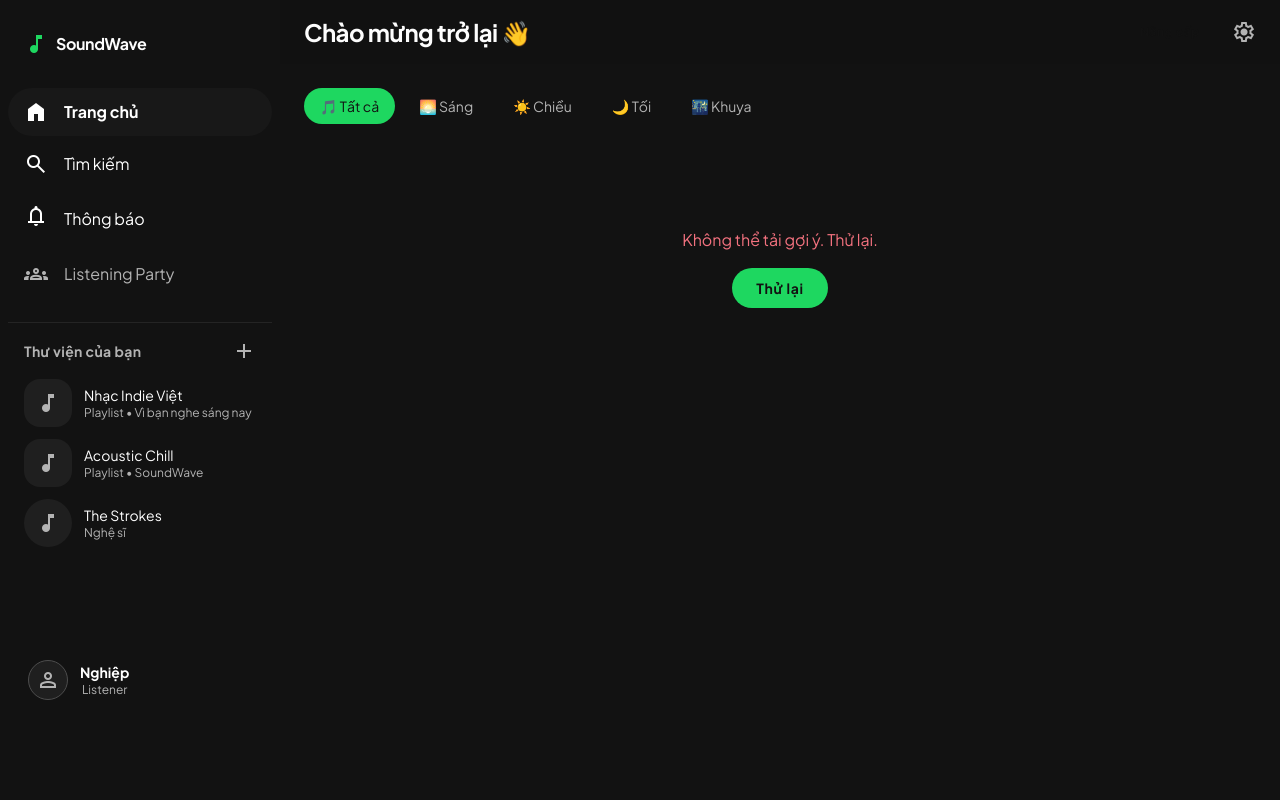
it: HomePage — error state › retry button re-fetches recommendations
Step 1. Click the button "Thử lại" → x=780, y=288, box 732,268 -> 828,308
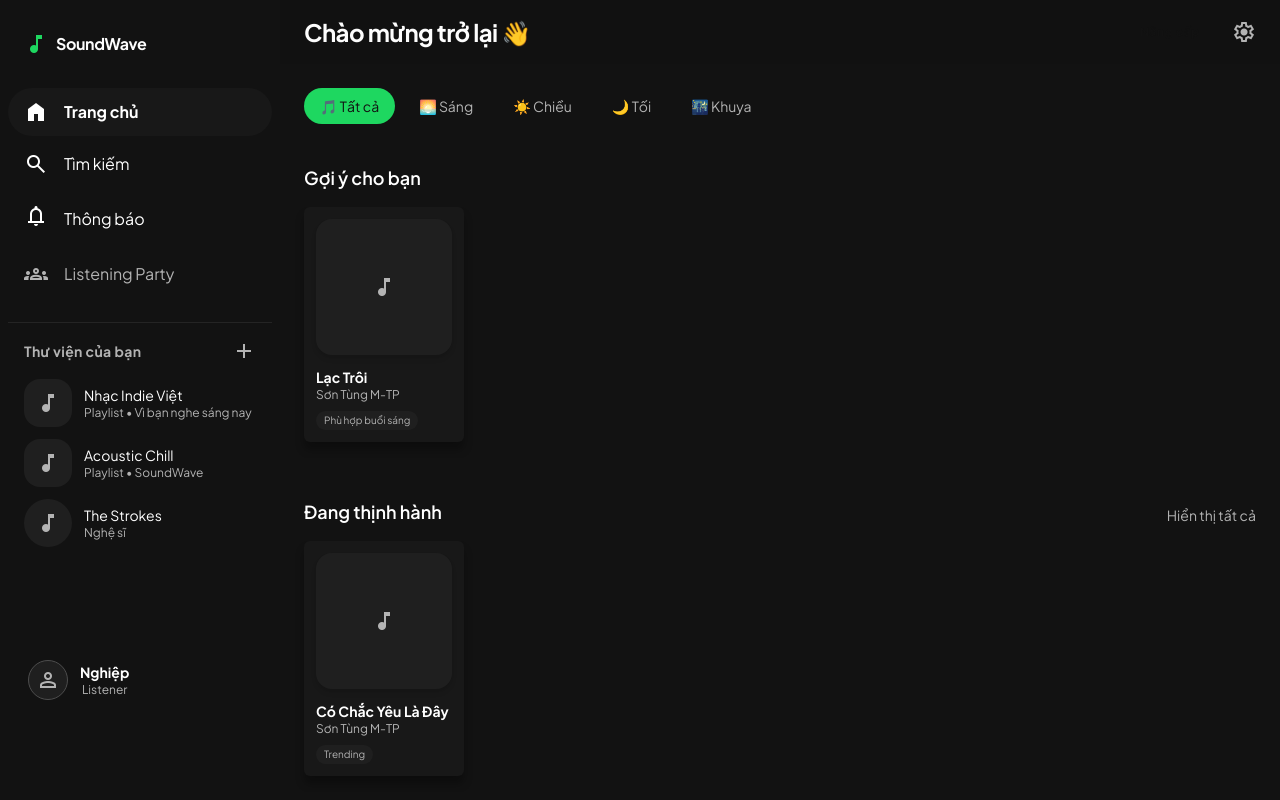
Expected: the button "Lạc Trôi" is shown, 316,367 -> 452,387
